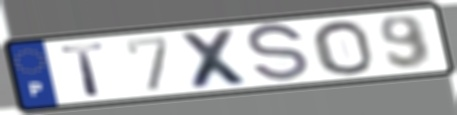7: (122, 34, 173, 94)
9: (377, 13, 434, 71)
O: (309, 18, 377, 77)
S: (245, 21, 312, 86)
T: (58, 41, 109, 98)
X: (175, 27, 256, 92)
